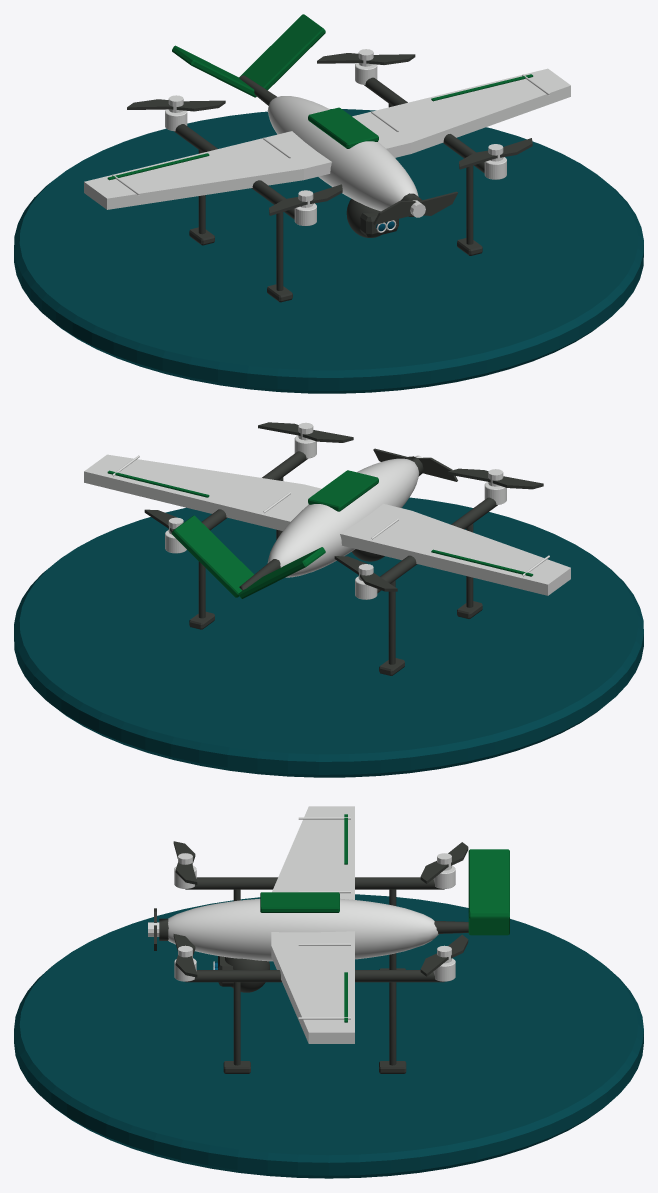
Rendered from jouav-cw-15.glb.
3 renders of one model, top to bottom at view 1: azimuth 30°, elevation 25°; view 2: azimuth 150°, elevation 25°; view 3: azimuth 270°, elevation 25°, orthographic.
Visible parts, largest first — view 1: pedestal, body; view 2: pedestal, body; view 3: pedestal, body.
Part boxes in pixels (x1,y1,x2,y2): pedestal: (14,109,643,393); body: (84,14,570,302); pedestal: (14,497,643,777); body: (84,422,570,675); pedestal: (14,894,643,1178); body: (148,806,509,1073).
Size of the model in its own units: 4.4 by 1.29 by 4.4.
